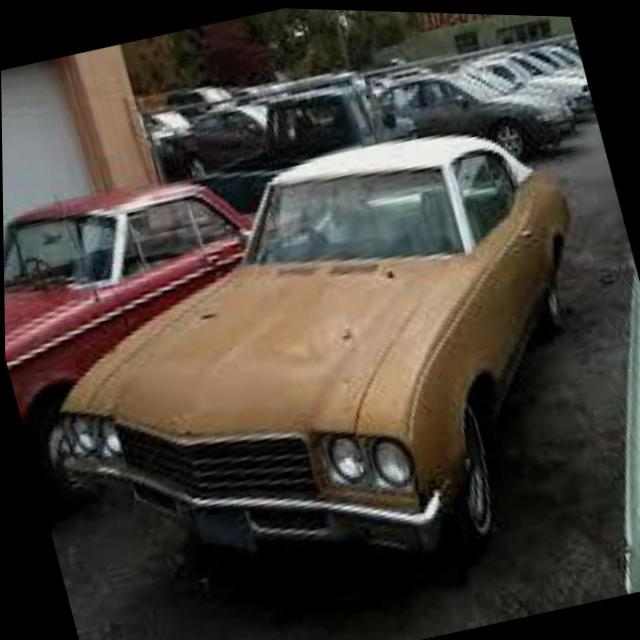Car-Damage: (245, 303, 355, 384)
